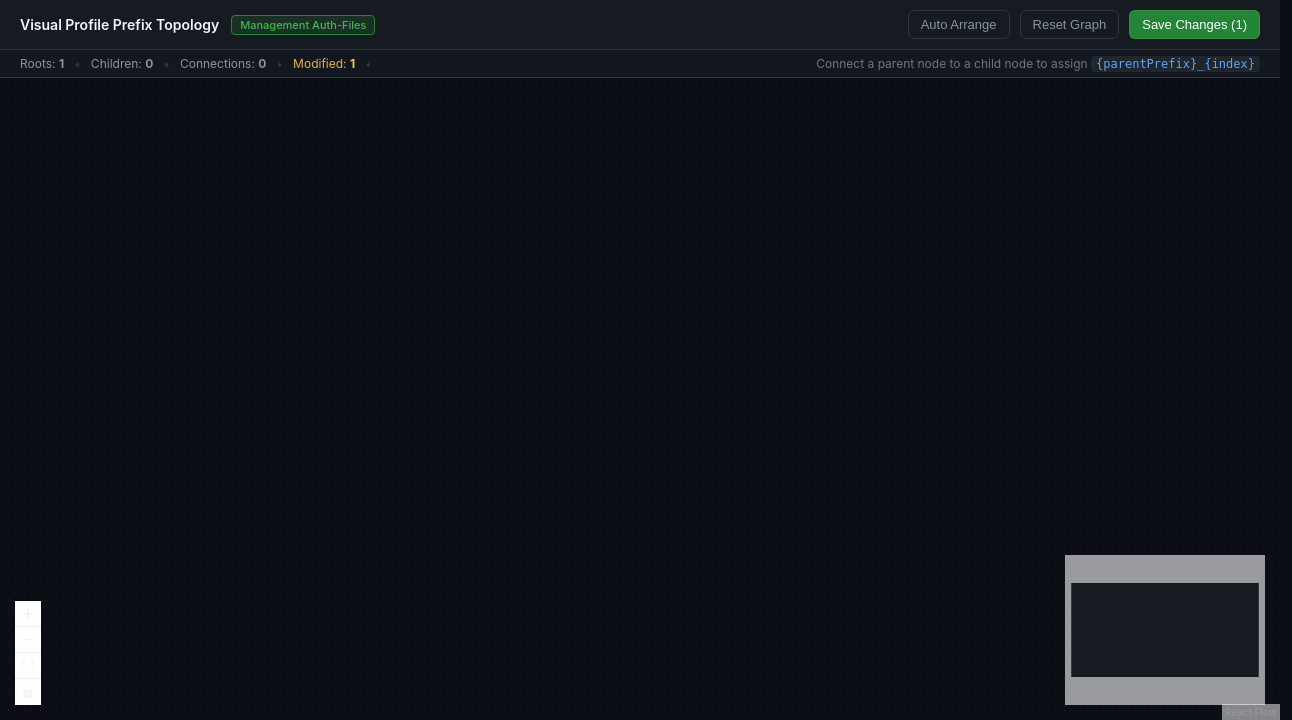
Scenario: ProfileGraph Component and onConnect Integration › VP-4 Explicit Save Changes, PATCH, Reconciliation, and Partial Failure › prevents overlapping saves while a request is in flight
This screenshot has width=1292, height=720.
Note: Trigger first save
Click the button with test id "btn-save-changes" at (1195, 24), box [1129,10,1260,39]
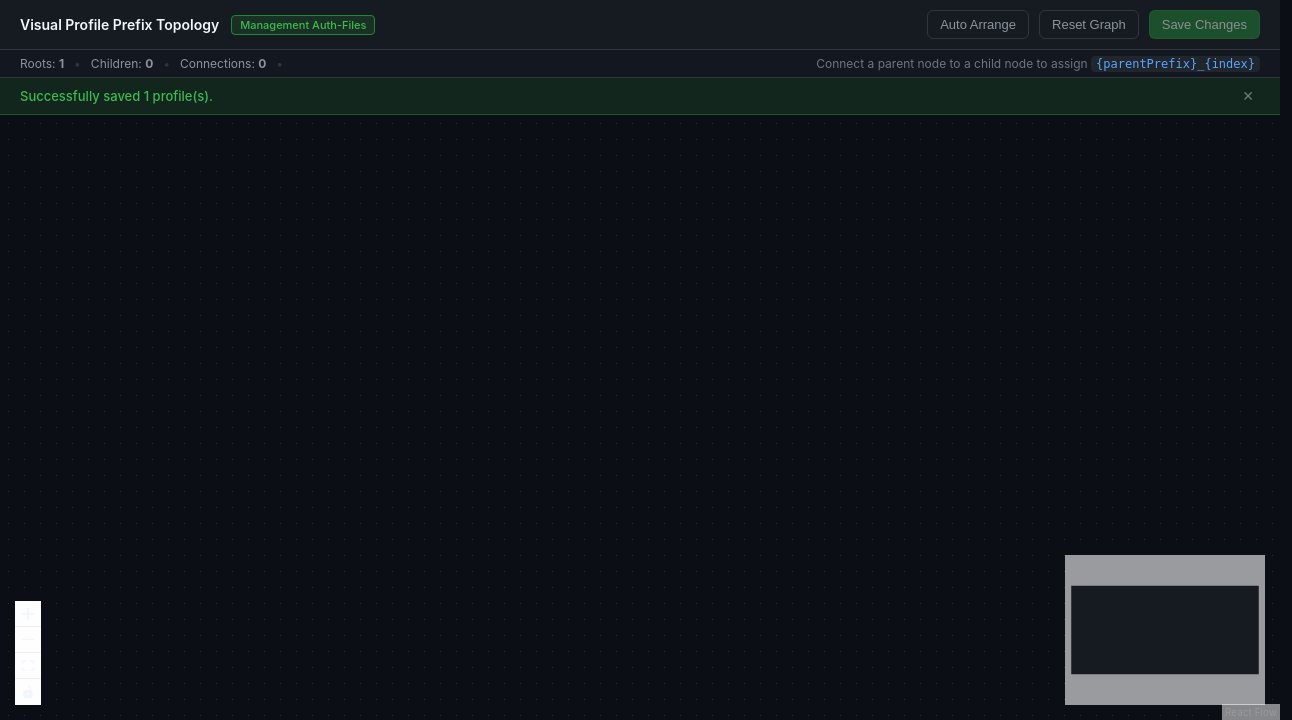
Expected: the button "Saving..." is shown, [1149,10,1260,39]
Now the element with test id "save-status-success" is shown, box [0,78,1280,115]
